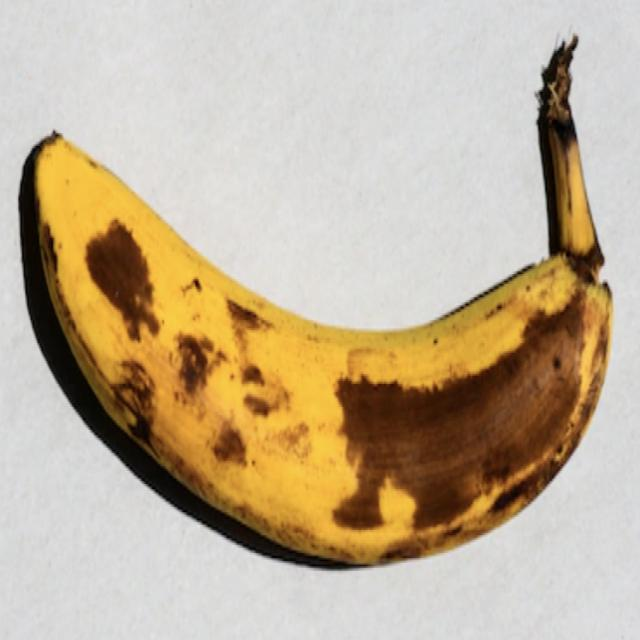rotten-banana: (26, 128, 614, 566)
